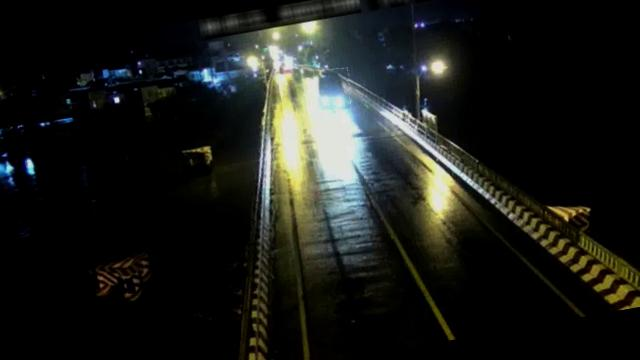Truck: (311, 64, 354, 113)
